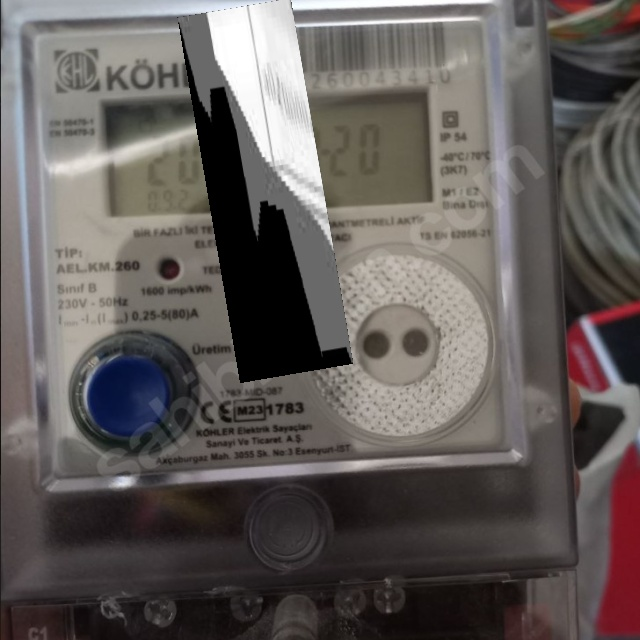electricity-bill: (176, 0, 352, 383)
